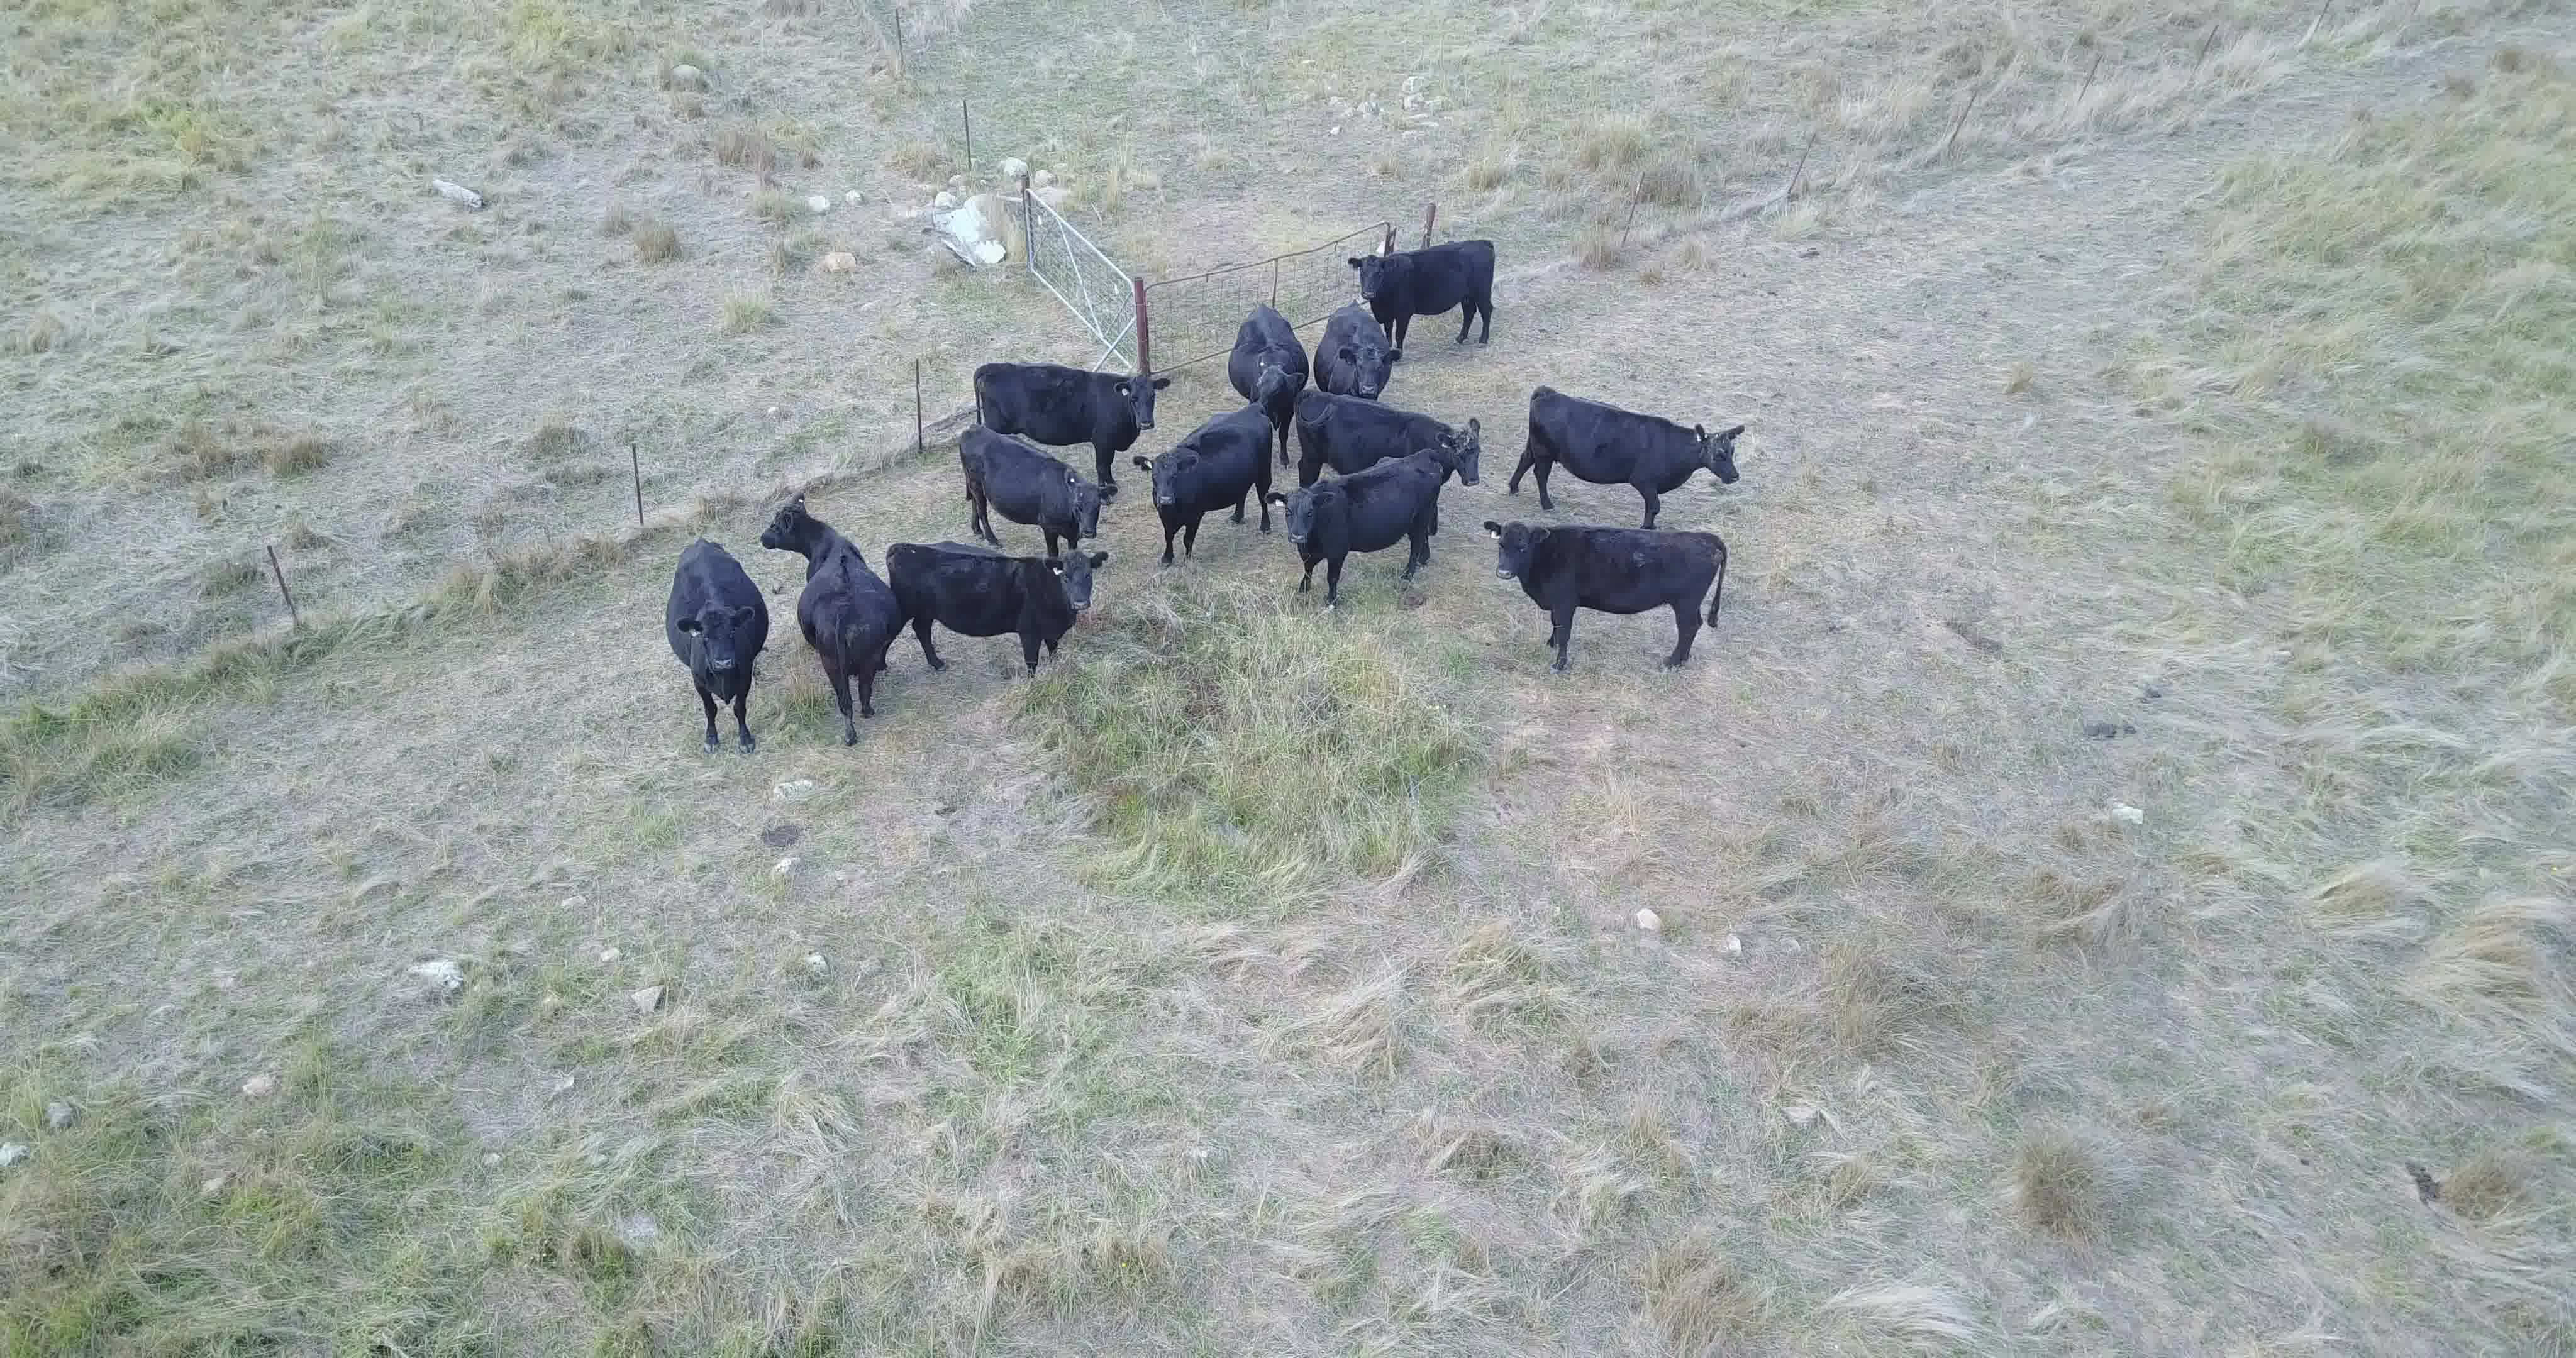cattle: (1477, 516, 1743, 675), (758, 491, 903, 746), (879, 533, 1107, 693), (1504, 385, 1751, 525), (1261, 445, 1448, 610), (968, 358, 1170, 506), (658, 533, 779, 755), (1131, 400, 1276, 581), (952, 416, 1119, 562), (1291, 387, 1486, 487), (1344, 235, 1503, 354), (1225, 300, 1310, 429), (1312, 300, 1406, 400)
